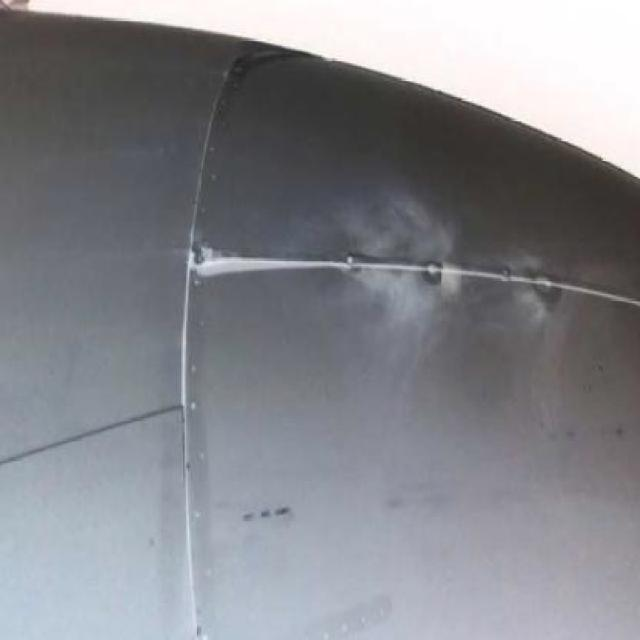crack: (192, 257, 343, 274)
